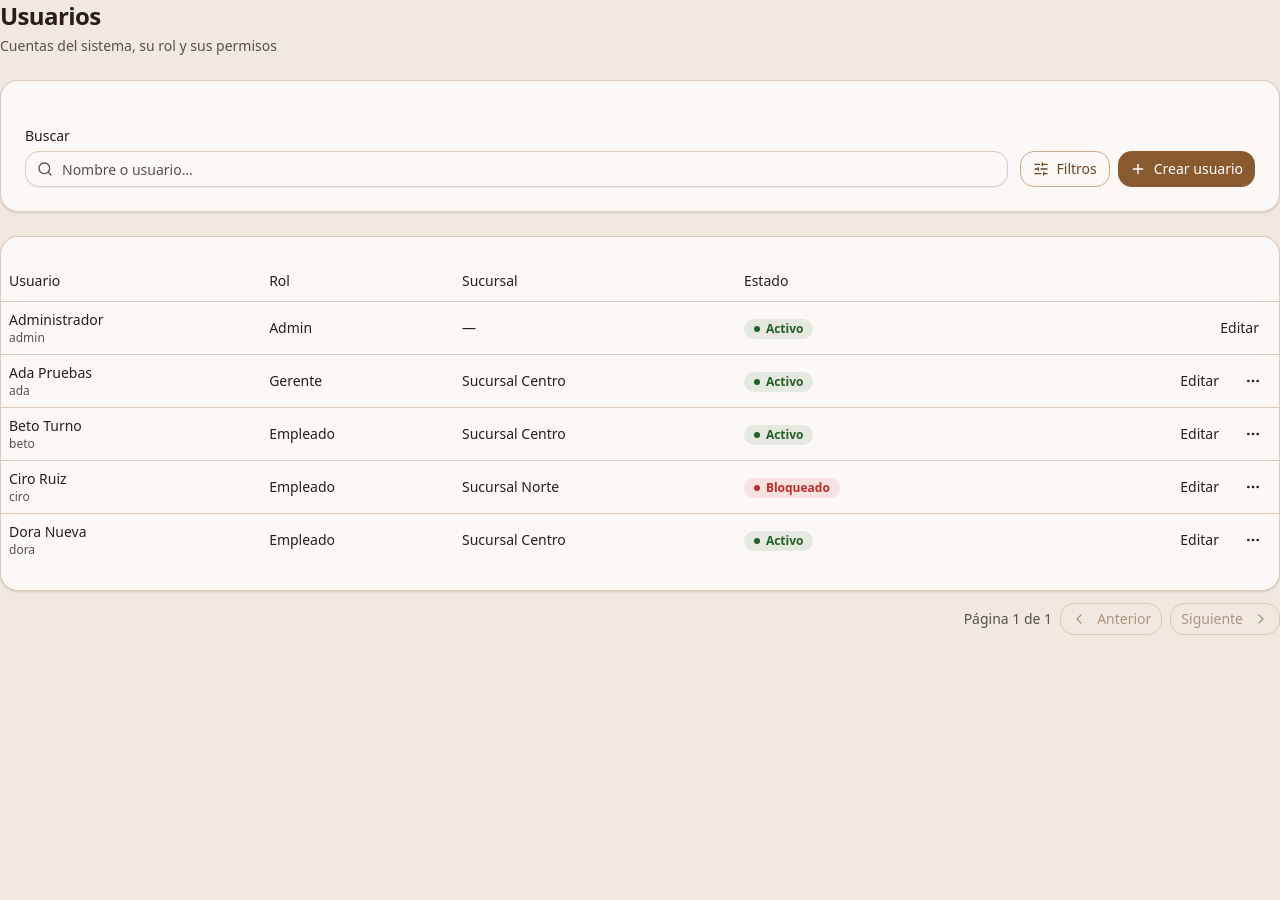
Test case: Permisos de un usuario › restablece un permiso revocado y luego puede volver a revocarlo
Expected: the text "Ada Pruebas" is shown, x1=9 y1=362 x2=92 y2=382
Click the button named "Más acciones" in the row of "Ada Pruebas".
click(1253, 380)  # box x1=1235 y1=362 x2=1271 y2=398
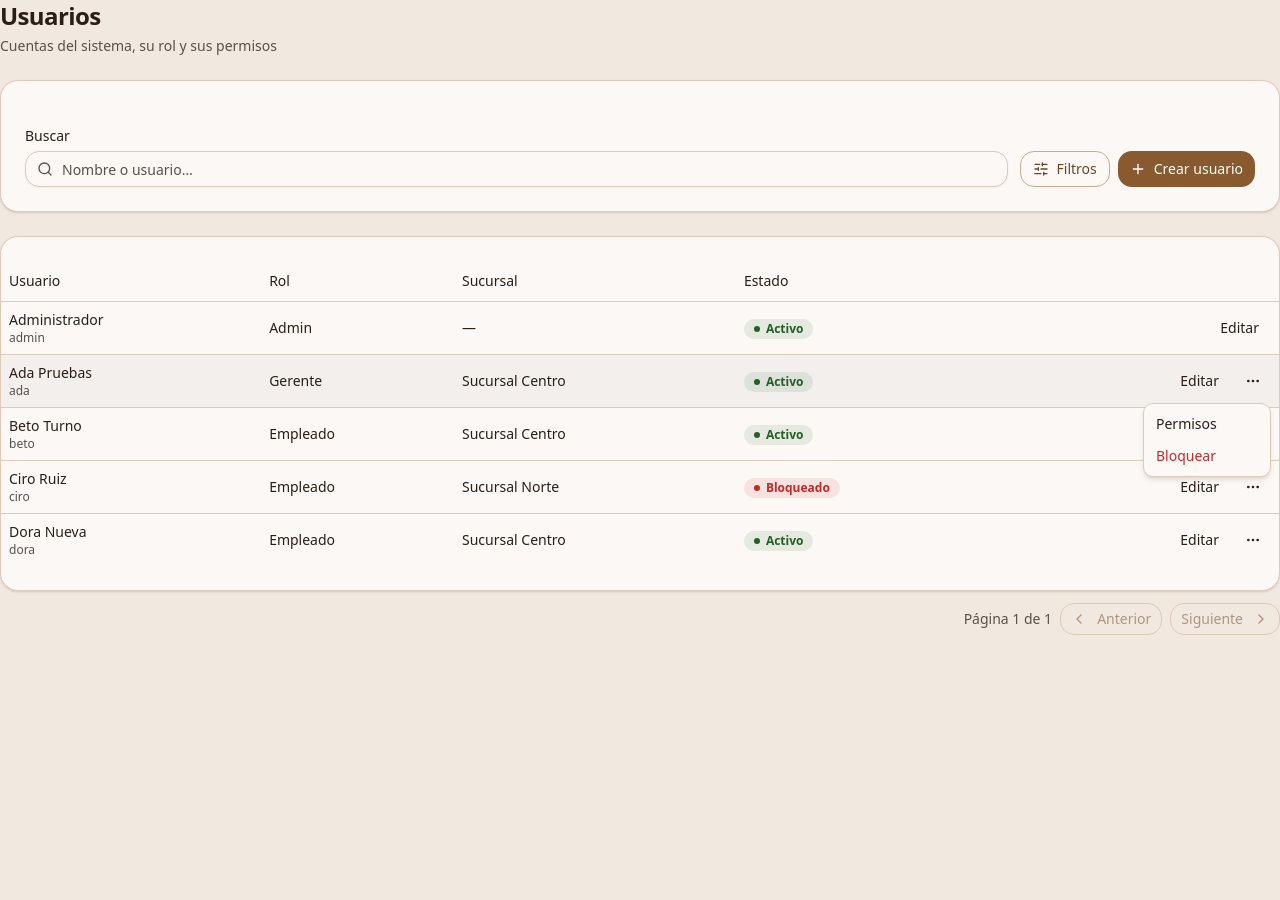
Click the menu item "Permisos".
click(1186, 424)  # box x1=1156 y1=414 x2=1217 y2=433
(page scrolled)
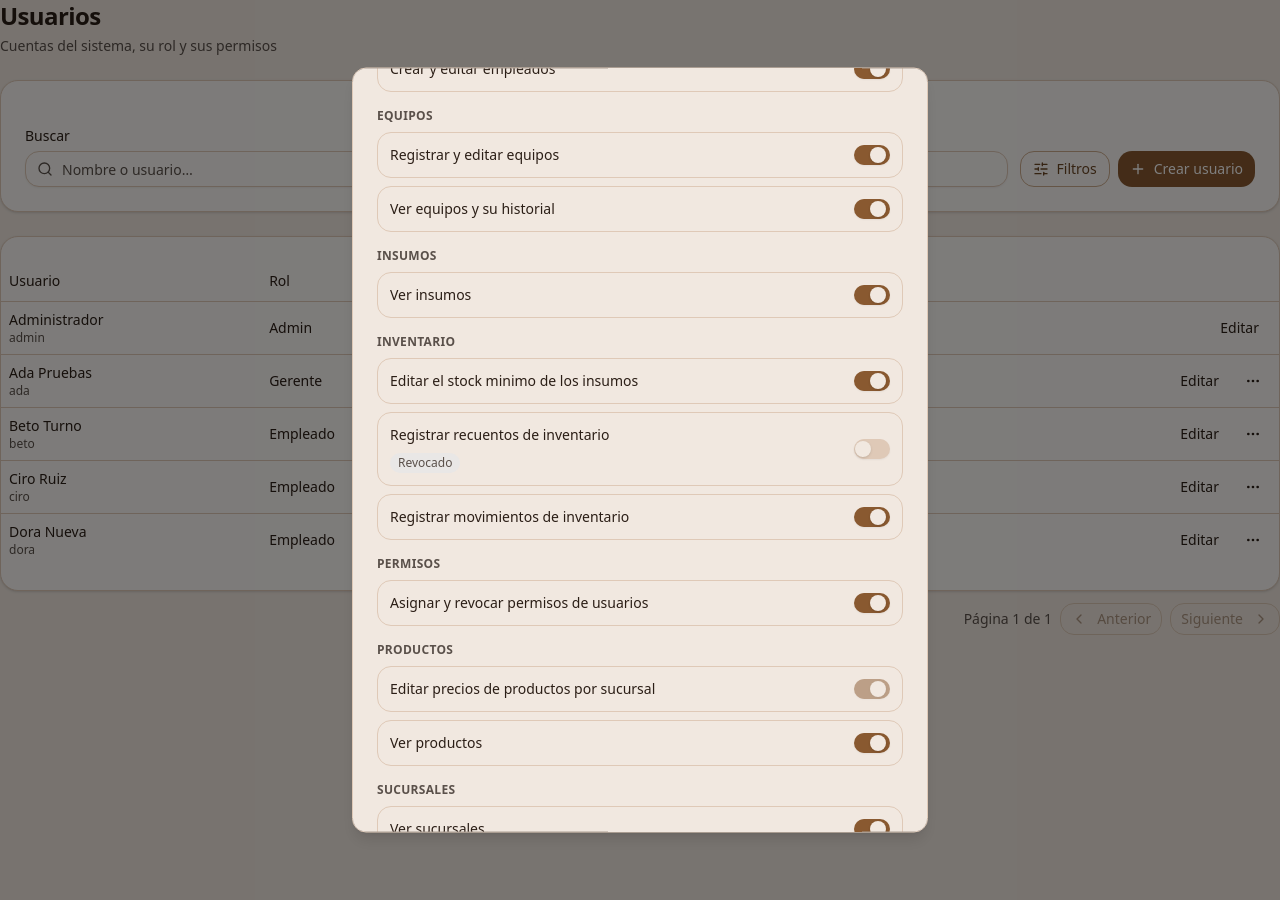
Expected: the text "Registrar recuentos de inventario" is shown, x1=390 y1=426 x2=609 y2=446
Expected: the text "Revocado" is shown, x1=390 y1=454 x2=460 y2=474
Click the switch named "Registrar recuentos de inventario".
click(872, 450)  # box x1=854 y1=440 x2=890 y2=460
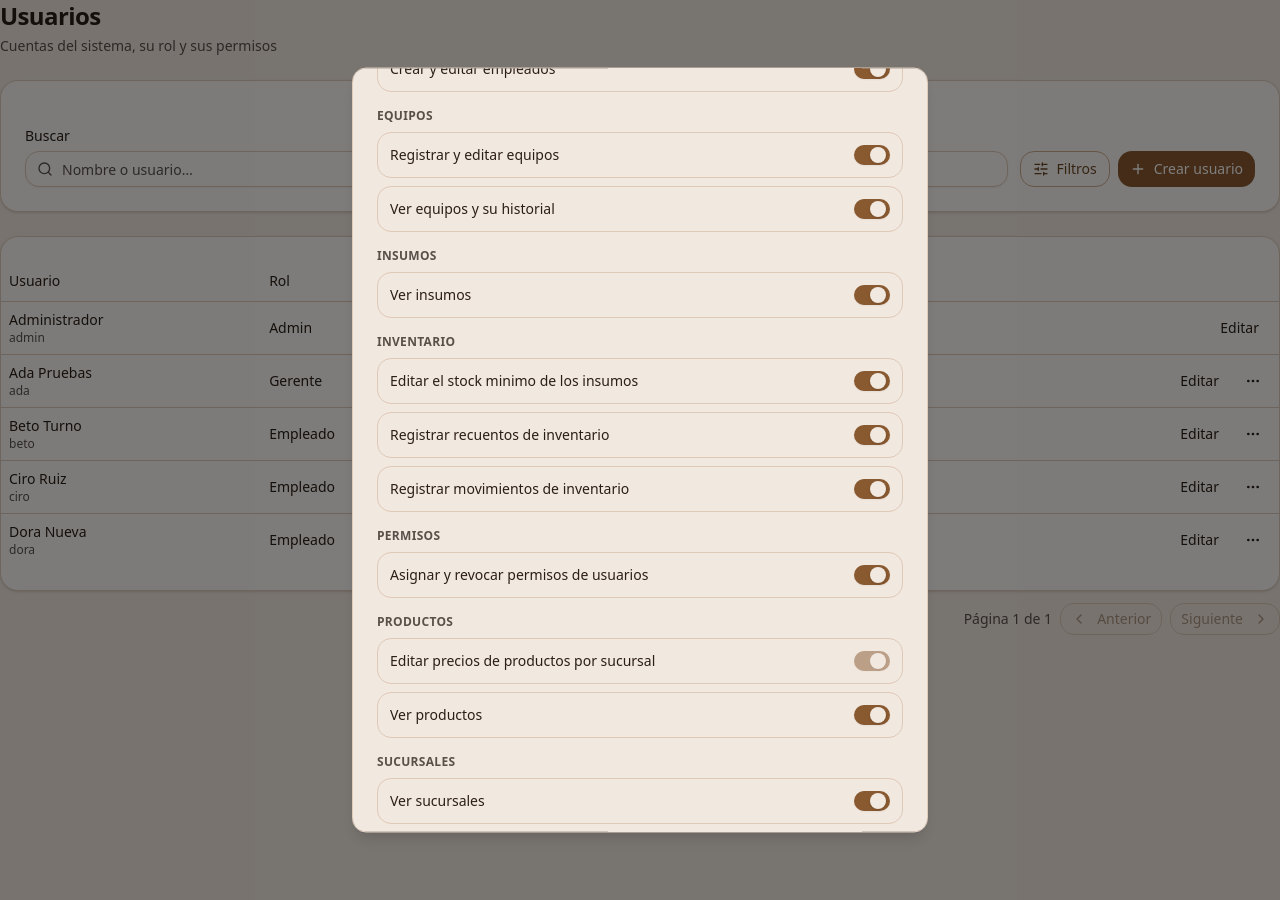
Expected: the text "Revocado" is gone
Click the switch named "Registrar recuentos de inventario".
click(872, 436)  # box x1=854 y1=426 x2=890 y2=446
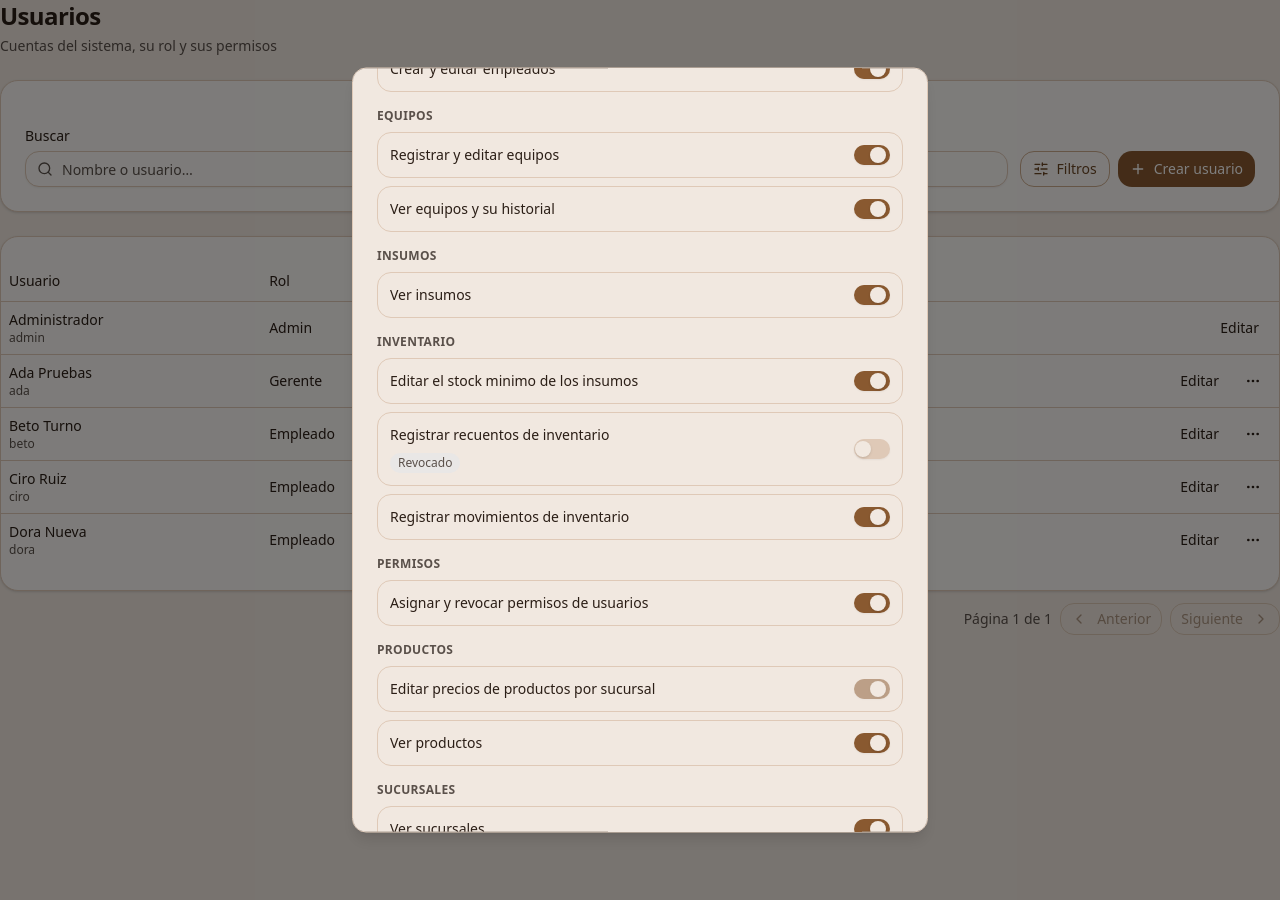
Expected: the text "Revocado" is shown, x1=390 y1=454 x2=460 y2=474
